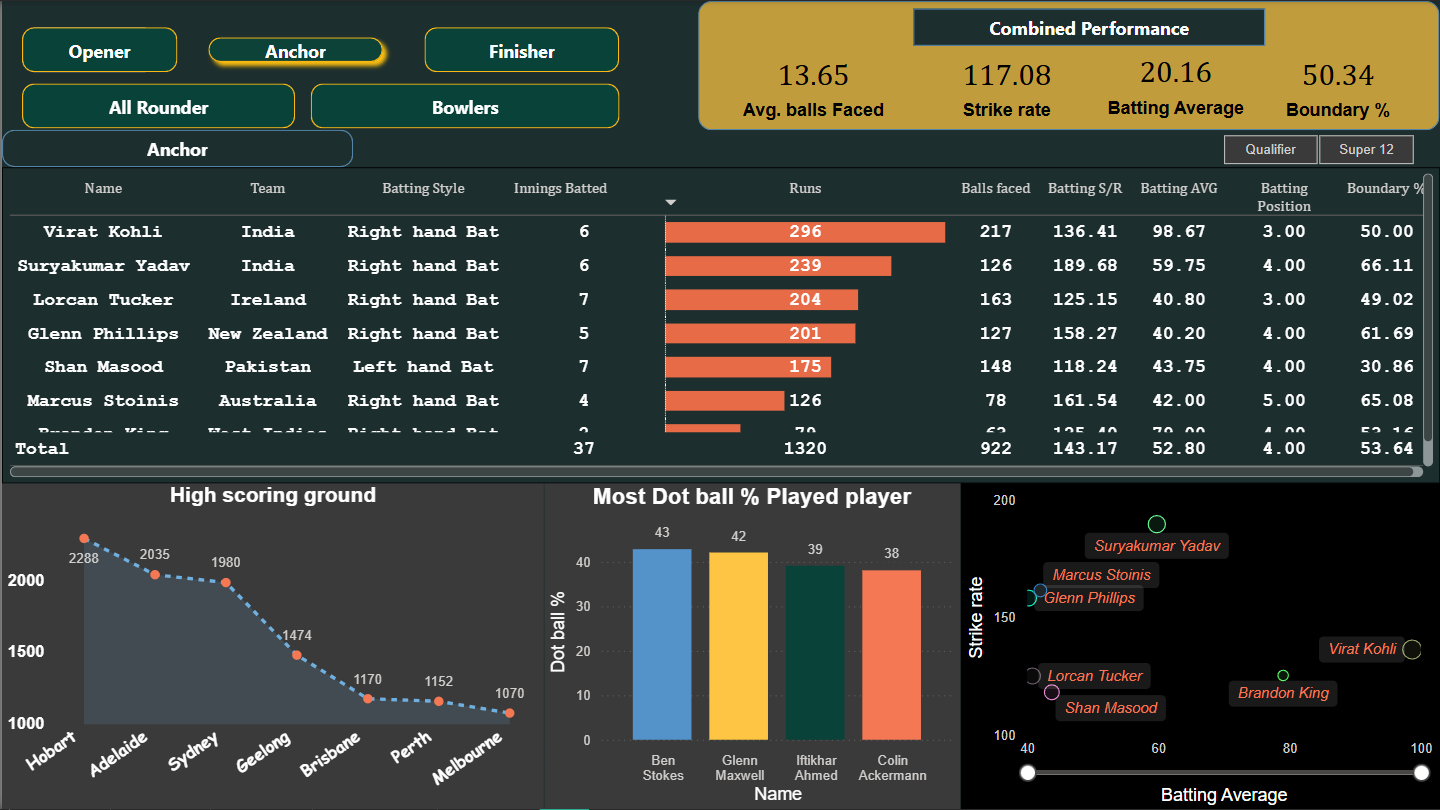

The page's visual inventory and layout, read from the dashboard file:
{"tool":"powerbi","page":{"name":"Anchor","canvas":[1280,720],"ordinal":1},"visuals":[{"type":"shape","box":[620,0,660,115],"z":0},{"type":"scatterChart","fields":{"Category":["dim_players.name"],"X":["Key_measures.Batting Average"],"Y":["Key_measures.Strike rate"],"Series":["dim_players.name"],"Size":["Key_measures.Total runs"]},"box":[853.3,429.7,427.2,290.6],"z":1000},{"type":"cardVisual","fields":{"Data":["Key_measures.Batting Average"]},"box":[966.7,38.3,158.3,75],"z":2000},{"type":"cardVisual","fields":{"Data":["Key_measures.Boundary %"]},"box":[1100,40,180,75],"z":3000},{"type":"cardVisual","fields":{"Data":["Key_measures.Strike rate"]},"box":[805,40,180,75],"z":4000},{"type":"cardVisual","fields":{"Data":["Key_measures.Avg. balls Faced"]},"box":[640,40,165,75],"z":5000},{"type":"slicer","fields":{"Values":["dim_match_summary.Stage"]},"box":[1061.5,112.3,219,39.3],"z":6000},{"type":"tableEx","fields":{"Values":["dim_players.name","dim_players.team","dim_players.battingStyle","Key_measures.Total Innings Batted","Key_measures.Total runs","Key_measures.Total balls faced","Key_measures.Strike rate","Key_measures.Batting Average","Key_measures.Batting Position","Key_measures.Boundary %"]},"box":[0,147.8,1280.5,282],"z":7000},{"type":"shape","box":[0,114.5,312.7,33.2],"z":8000},{"type":"lineChart","title":"High scoring ground","fields":{"Category":["dim_match_summary.ground"],"Y":["Key_measures.Total runs"]},"box":[0,429.7,482.7,290.6],"z":9000},{"type":"shape","box":[811.7,6.7,313.3,33.3],"z":10000},{"type":"actionButton","title":"Op","box":[28.3,23.3,100,40],"z":11000},{"type":"shape","box":[18.3,23.3,138.3,40],"z":12000},{"type":"shape","box":[175,23.3,173.3,40],"z":13000},{"type":"shape","box":[376.7,23.3,173.3,40],"z":14000},{"type":"shape","box":[18.3,73.3,243.3,40],"z":15000},{"type":"shape","box":[275,73.3,275,40],"z":16000},{"type":"lineStackedColumnComboChart","title":"Most Dot ball  % Played player","fields":{"Category":["dim_players.name"],"Y":["Key_measures.Dot ball %"]},"box":[483.3,430,370,290],"z":17000}]}

Visuals, with their boxes in screenshot pixels (x1, y1, x2, y2), scaled from the page's 1280x720 canvas onto the 1440x810 screenshot:
shape: bbox(698, 0, 1439, 129)
scatterChart - dim_players.name x Key_measures.Batting Average: bbox(960, 483, 1439, 809)
cardVisual - Key_measures.Batting Average: bbox(1088, 43, 1266, 127)
cardVisual - Key_measures.Boundary %: bbox(1238, 45, 1439, 129)
cardVisual - Key_measures.Strike rate: bbox(906, 45, 1108, 129)
cardVisual - Key_measures.Avg. balls Faced: bbox(720, 45, 906, 129)
slicer - dim_match_summary.Stage: bbox(1194, 126, 1439, 171)
tableEx - dim_players.name x dim_players.team: bbox(0, 166, 1439, 484)
shape: bbox(0, 129, 352, 166)
"High scoring ground" lineChart: bbox(0, 483, 543, 809)
shape: bbox(913, 8, 1266, 45)
"Op" actionButton: bbox(32, 26, 144, 71)
shape: bbox(21, 26, 176, 71)
shape: bbox(197, 26, 392, 71)
shape: bbox(424, 26, 619, 71)
shape: bbox(21, 82, 294, 127)
shape: bbox(309, 82, 619, 127)
"Most Dot ball  % Played player" lineStackedColumnComboChart: bbox(544, 484, 960, 809)
